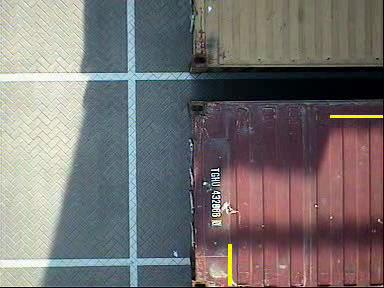groundmarker_2: (103, 125, 166, 165)
